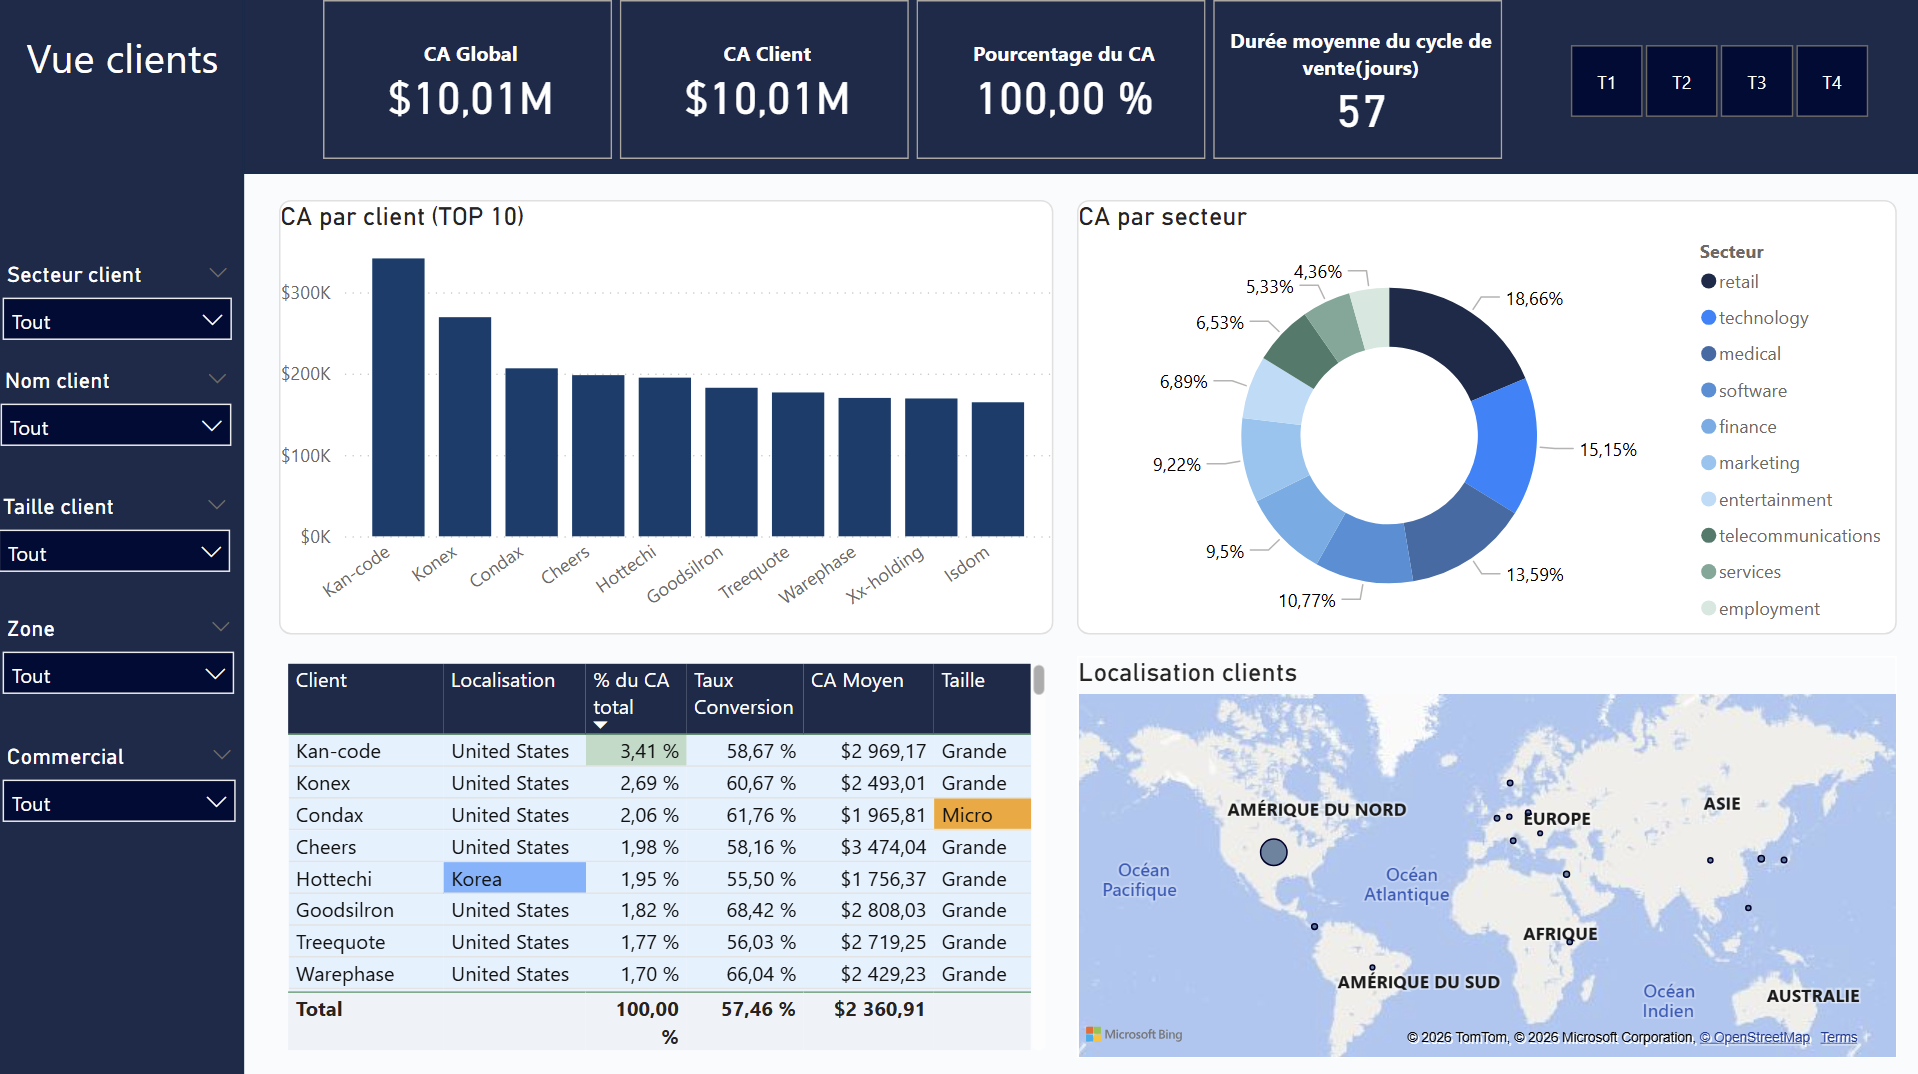

This screenshot's page, from the dashboard's own definition file:
{"tool":"powerbi","page":{"name":"Client","canvas":[1280,720],"ordinal":2},"visuals":[{"type":"shape","box":[158.5,0,1121.6,122.9],"z":0},{"type":"shape","box":[0,0,170,718.6],"z":1000},{"type":"slicer","fields":{"Values":["sales_teams.sales_agent"]},"box":[4.9,499.5,164.1,74.8],"z":2000},{"type":"slicer","fields":{"Values":["accounts.account"]},"box":[4.4,251.2,162.3,75.4],"z":3000},{"type":"slicer","fields":{"Values":["accounts.sector"]},"box":[5.3,181.2,161.4,58.5],"z":4000},{"type":"slicer","fields":{"Values":["DimCalendar_Close_Date.Trimestre"]},"box":[1025.2,35.7,236.5,51.5],"z":5000},{"type":"slicer","fields":{"Values":["accounts.Taille entreprise"]},"box":[2.6,333.7,163.2,75.4],"z":7000},{"type":"slicer","fields":{"Values":["accounts.Localisation"]},"box":[5.3,415.2,163.2,75.4],"z":8000},{"type":"cardVisual","fields":{"Data":["Mesure.CA Global","Mesure.CA","Mesure.pourcentage du CA","Mesure.Duree_moyenne_cycle"]},"box":[221.9,4,782.1,113.6],"z":9000},{"type":"lineClusteredColumnComboChart","title":"CA par client (TOP 10)","fields":{"Category":["accounts.account"],"Y":["Mesure.CA Won"]},"box":[192.9,140,511.4,287.1],"z":10000},{"type":"donutChart","title":"CA  par secteur ","fields":{"Category":["accounts.sector"],"Y":["Mesure.CA Won"]},"box":[720,140,541.4,287.1],"z":11000},{"type":"tableEx","fields":{"Values":["accounts.account","accounts.office_location","Mesure.pourcentage du CA","Mesure.Taux_Conversion","Mesure.CA Moyen","accounts.Taille entreprise"]},"box":[192.9,441.2,511.3,265.5],"z":12000},{"type":"map","title":"Localisation clients","fields":{"Category":["accounts.office_location"],"Size":["Mesure.CA Won"]},"box":[720,441.2,541.7,265.5],"z":13000},{"type":"textbox","box":[21.1,22.5,299.9,54.2],"z":14000}]}

Visuals, with their boxes in screenshot pixels (x1, y1, x2, y2), scaled from the page's 1280x720 canvas onto the 1918x1074 screenshot:
shape: Rect(238, 0, 1917, 183)
shape: Rect(0, 0, 255, 1072)
slicer - sales_teams.sales_agent: Rect(7, 745, 253, 857)
slicer - accounts.account: Rect(7, 375, 250, 487)
slicer - accounts.sector: Rect(8, 270, 250, 358)
slicer - DimCalendar_Close_Date.Trimestre: Rect(1536, 53, 1891, 130)
slicer - accounts.Taille entreprise: Rect(4, 498, 248, 610)
slicer - accounts.Localisation: Rect(8, 619, 252, 732)
cardVisual - Mesure.CA Global x Mesure.CA: Rect(333, 6, 1504, 175)
"CA par client (TOP 10)" lineClusteredColumnComboChart: Rect(289, 209, 1055, 637)
"CA  par secteur " donutChart: Rect(1079, 209, 1890, 637)
tableEx - accounts.account x accounts.office_location: Rect(289, 658, 1055, 1054)
"Localisation clients" map: Rect(1079, 658, 1891, 1054)
textbox: Rect(32, 34, 481, 114)
